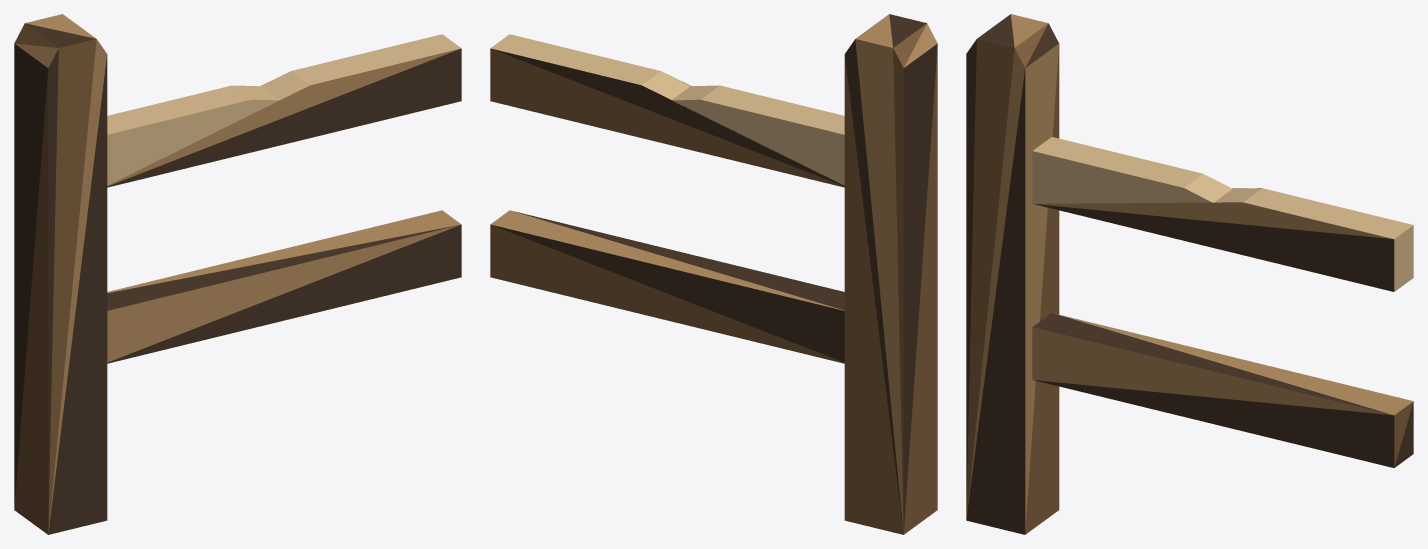
Rendered from TW_WOOD_RAIL_1M_A_LOD0.glb.
The picture shows the model from 3 angles, left to right: view 1: azimuth 30°, elevation 25°; view 2: azimuth 150°, elevation 25°; view 3: azimuth 330°, elevation 25°; orthographic projection.
Parts seen in each view (by area): view 1: TW_WOOD_RAIL_1M_A_LOD0; view 2: TW_WOOD_RAIL_1M_A_LOD0; view 3: TW_WOOD_RAIL_1M_A_LOD0.
Part boxes in pixels (x1,y1,x2,y2): TW_WOOD_RAIL_1M_A_LOD0: (14,14,461,534); TW_WOOD_RAIL_1M_A_LOD0: (490,14,937,534); TW_WOOD_RAIL_1M_A_LOD0: (966,14,1413,534).
Size of the model in its own units: 1 by 1.1 by 0.14.
Materials: 1 (1 with a texture image).
